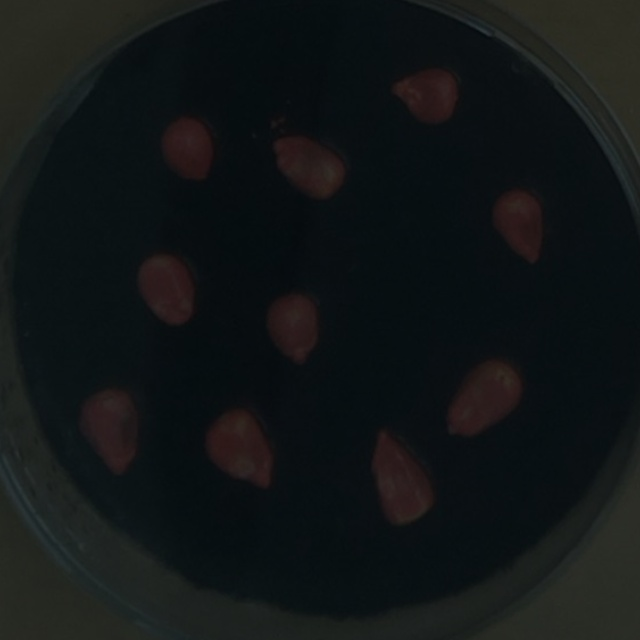Zea mays: (362, 421, 445, 537), (437, 351, 533, 447), (194, 399, 284, 498), (71, 379, 146, 484), (263, 125, 355, 208), (127, 243, 204, 334), (256, 282, 330, 374), (382, 59, 466, 132), (150, 107, 223, 191), (483, 183, 551, 273)
